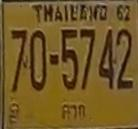0: (29, 29, 47, 92)
2: (117, 28, 134, 90)
4: (99, 28, 115, 90)
5: (61, 29, 78, 89)
7: (80, 29, 95, 89), (12, 30, 26, 92)
TAK: (58, 102, 88, 120)
